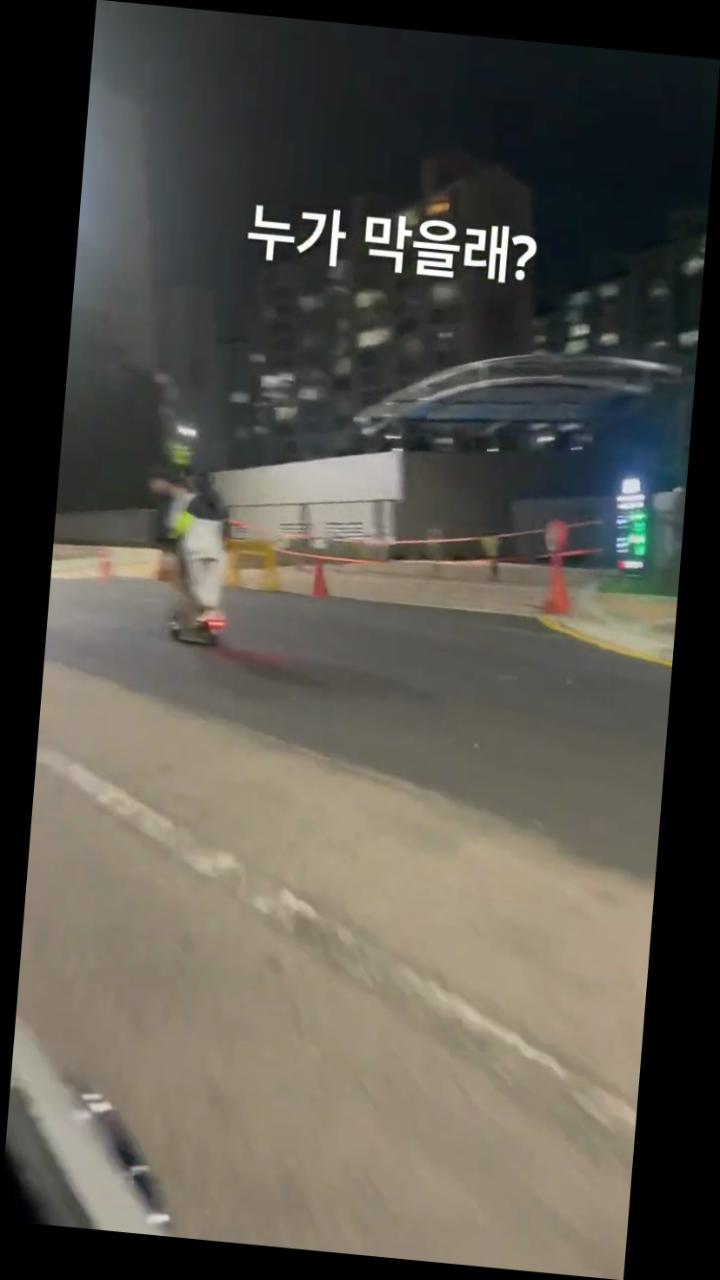multiple: (134, 460, 244, 653)
